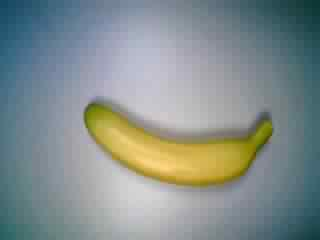banana: (82, 100, 273, 187)
